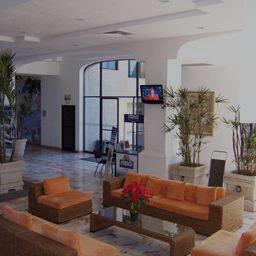Matera: (169, 92, 210, 195), (226, 110, 255, 213), (1, 50, 20, 192)
Puerta: (101, 94, 134, 148), (60, 105, 73, 150)
